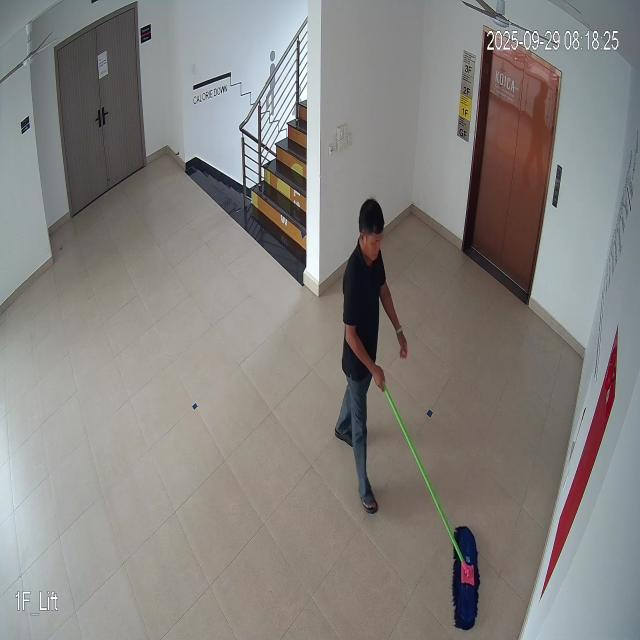face: (352, 190, 388, 266)
